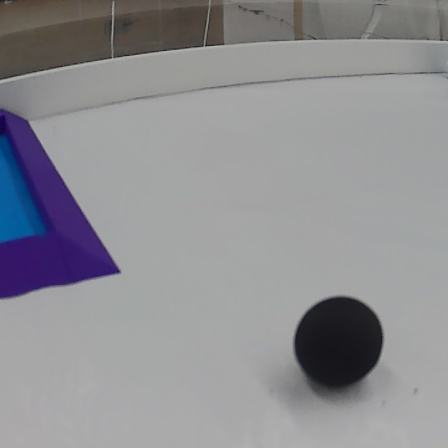black: (292, 291, 383, 392)
blue_aim: (1, 103, 120, 321)
